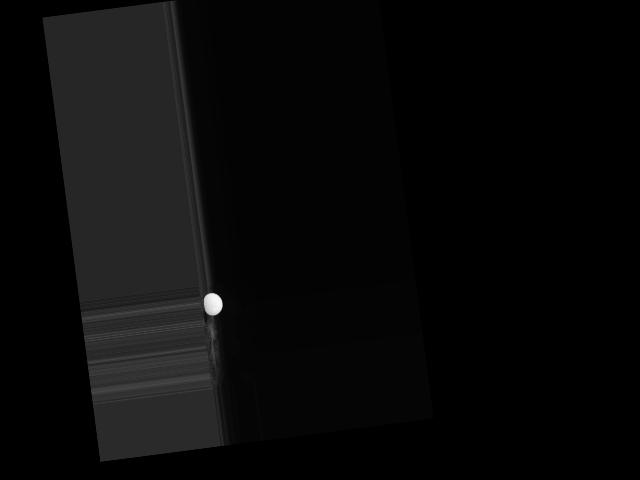egg: (202, 292, 223, 317)
